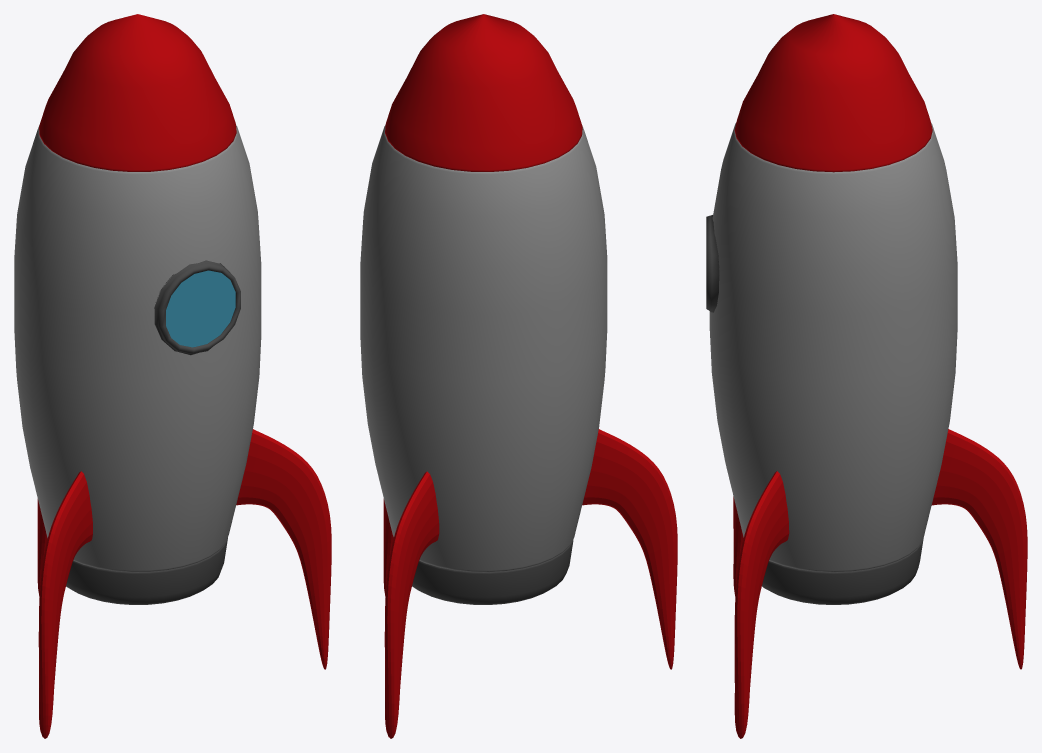
File: CartoonRocket.gltf
3 renders of one model, left to right at view 1: azimuth 30°, elevation 25°; view 2: azimuth 150°, elevation 25°; view 3: azimuth 270°, elevation 25°, orthographic.
Parts seen in each view (by area): view 1: node-0; view 2: node-0; view 3: node-0.
Part boxes in pixels (x1,y1,x2,y2): node-0: [14, 14, 331, 738]; node-0: [360, 14, 677, 738]; node-0: [706, 14, 1027, 738].
Size of the model in its own units: 4.48 by 9.62 by 4.27.
